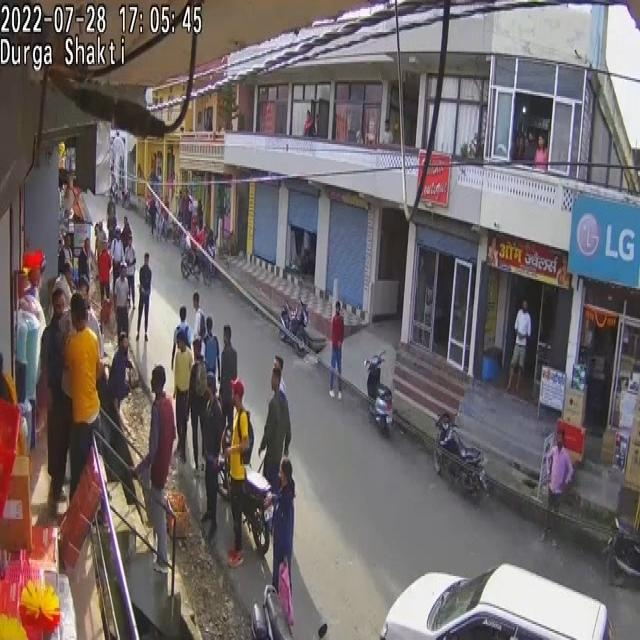fight: (62, 294, 104, 516), (134, 364, 176, 575), (38, 291, 72, 506), (200, 373, 226, 539), (106, 334, 134, 478)
non-fight: (59, 196, 146, 352), (147, 182, 210, 263), (225, 379, 252, 566), (268, 458, 296, 620), (259, 367, 291, 501), (542, 426, 574, 547), (171, 326, 194, 465), (187, 345, 208, 471), (219, 326, 238, 429), (136, 251, 152, 338), (330, 300, 344, 396), (203, 318, 220, 394), (98, 238, 111, 304), (149, 196, 157, 236)
